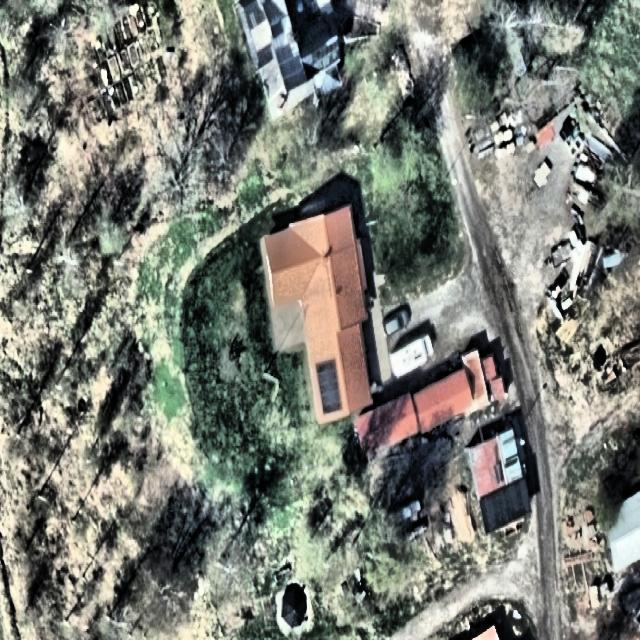roof_pv: (312, 352, 349, 418)
